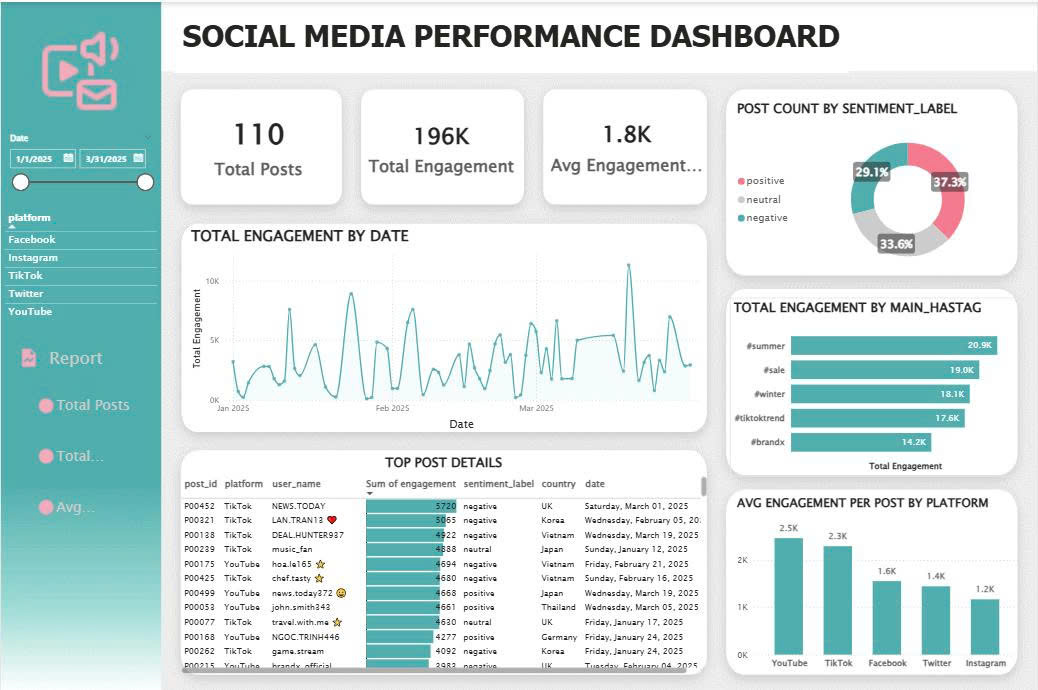

This screenshot's page, from the dashboard's own definition file:
{"tool":"powerbi","page":{"name":"Main","canvas":[1500,1000],"ordinal":0},"visuals":[{"type":"image","box":[0,35,230,132.5],"z":0},{"type":"textbox","box":[250,17.5,977.5,85],"z":1000},{"type":"slicer","fields":{"Values":["DateTable.Date"]},"box":[0,182,230,114],"z":2000},{"type":"actionButton","box":[0,482,230,66],"z":3000},{"type":"actionButton","box":[0,556,230,64],"z":4000},{"type":"actionButton","box":[0,702,230,66],"z":5000},{"type":"actionButton","box":[0,628,230,66],"z":6000},{"type":"lineChart","title":"TOTAL ENGAGEMENT BY DATE","fields":{"Category":["DateTable.Date"],"Y":["social_media_merged_22174600025.Total Engagement"]},"box":[264.4,317.2,763.7,311.4],"z":7000},{"type":"clusteredColumnChart","title":"AVG ENGAGEMENT PER POST BY PLATFORM","fields":{"Category":["social_media_merged_22174600025.platform"],"Y":["social_media_merged_22174600025.Avg Engagement per Post"]},"box":[1054,702,426,276],"z":8000},{"type":"donutChart","title":"POST COUNT BY SENTIMENT_LABEL","fields":{"Category":["social_media_merged_22174600025.sentiment_label"],"Y":["social_media_merged_22174600025.Post Count"]},"box":[1054,130,426,272],"z":9000},{"type":"clusteredBarChart","title":"TOTAL ENGAGEMENT BY MAIN_HASTAG","fields":{"Category":["social_media_merged_22174600025.main_hashtag"],"Y":["social_media_merged_22174600025.Total Engagement"]},"box":[1055.5,426.9,424.9,258.5],"z":10000},{"type":"cardVisual","fields":{"Data":["social_media_merged_22174600025.Total Posts"]},"box":[250,126,246,170],"z":11000},{"type":"cardVisual","fields":{"Data":["social_media_merged_22174600025.Total Engagement"]},"box":[510,130,254,166],"z":12000},{"type":"cardVisual","fields":{"Data":["social_media_merged_22174600025.Avg Engagement per Post"]},"box":[784,126,244,170],"z":13000},{"type":"tableEx","title":"TOP POST DETAILS","fields":{"Values":["social_media_merged_22174600025.post_id","social_media_merged_22174600025.platform","social_media_merged_22174600025.user_name","Sum(social_media_merged_22174600025.engagement)","social_media_merged_22174600025.sentiment_label","social_media_merged_22174600025.country","social_media_merged_22174600025.date"]},"box":[249.6,642.6,777.2,334.3],"z":14000},{"type":"tableEx","title":"PLATFORM","fields":{"Values":["social_media_merged_22174600025.platform"]},"box":[0,296,230,174],"z":15000}]}

Visuals, with their boxes on the page's 1500x1000 design canvas (x1, y1, x2, y2). These are canvas units, not pixel positions in the 1038x690 screenshot, which may show the page scaled, cropped or inside an application window:
image: bbox(0, 35, 230, 168)
textbox: bbox(250, 18, 1228, 102)
slicer - DateTable.Date: bbox(0, 182, 230, 296)
actionButton: bbox(0, 482, 230, 548)
actionButton: bbox(0, 556, 230, 620)
actionButton: bbox(0, 702, 230, 768)
actionButton: bbox(0, 628, 230, 694)
"TOTAL ENGAGEMENT BY DATE" lineChart: bbox(264, 317, 1028, 629)
"AVG ENGAGEMENT PER POST BY PLATFORM" clusteredColumnChart: bbox(1054, 702, 1480, 978)
"POST COUNT BY SENTIMENT_LABEL" donutChart: bbox(1054, 130, 1480, 402)
"TOTAL ENGAGEMENT BY MAIN_HASTAG" clusteredBarChart: bbox(1056, 427, 1480, 685)
cardVisual - social_media_merged_22174600025.Total Posts: bbox(250, 126, 496, 296)
cardVisual - social_media_merged_22174600025.Total Engagement: bbox(510, 130, 764, 296)
cardVisual - social_media_merged_22174600025.Avg Engagement per Post: bbox(784, 126, 1028, 296)
"TOP POST DETAILS" tableEx: bbox(250, 643, 1027, 977)
"PLATFORM" tableEx: bbox(0, 296, 230, 470)
